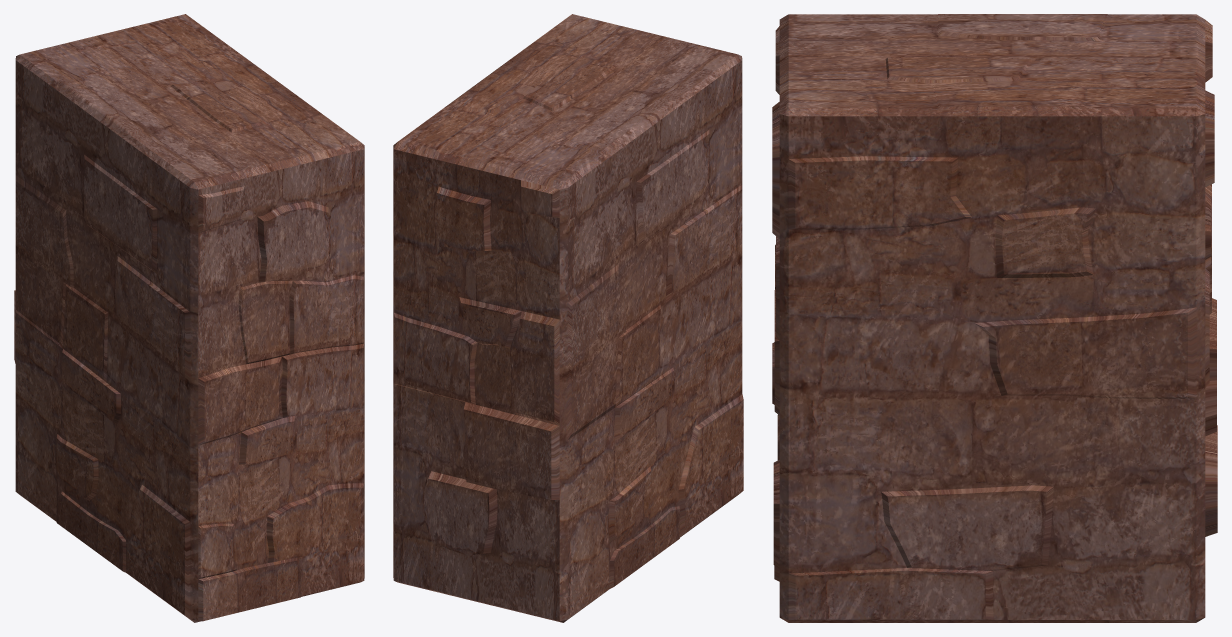
File: parede.fbx
The picture shows the model from 3 angles, left to right: view 1: azimuth 30°, elevation 25°; view 2: azimuth 150°, elevation 25°; view 3: azimuth 270°, elevation 25°; orthographic projection. The views are drawn at different scales.
Parts seen in each view (by area): view 1: pCube2; view 2: pCube2; view 3: pCube2.
Part boxes in pixels (x1,y1,x2,y2): pCube2: (14,14,364,622); pCube2: (393,14,743,622); pCube2: (772,14,1217,622).
Size of the model in its own units: 2.4 by 5.6 by 4.37.
Materials: 1 (1 with a texture image).
